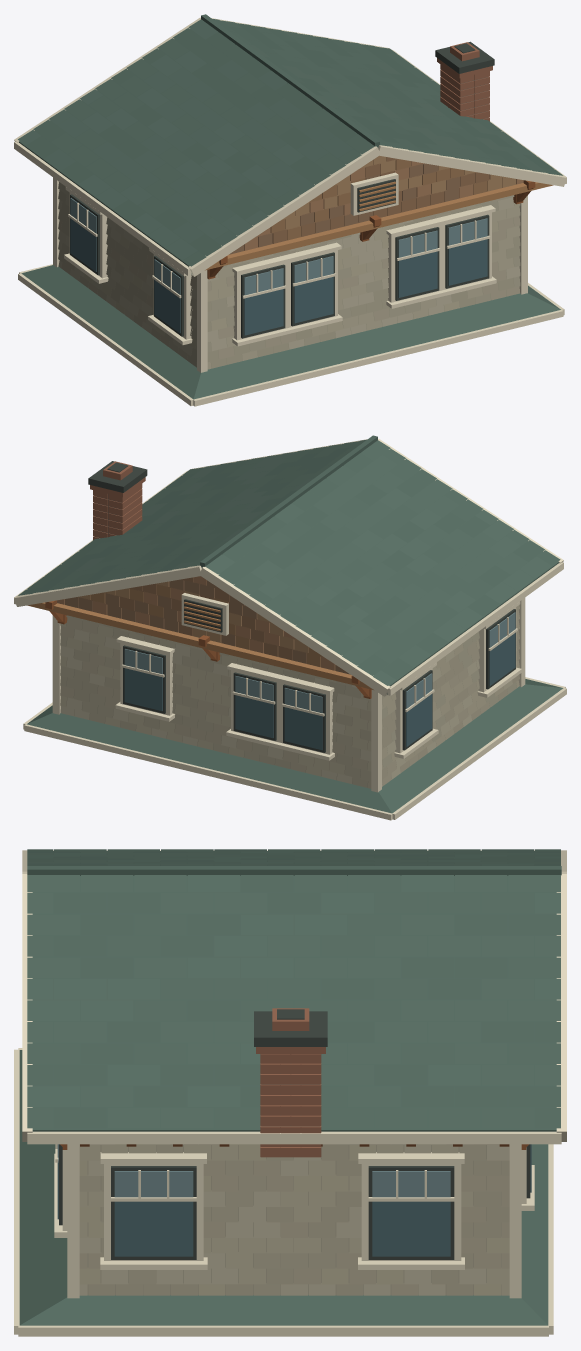
File: craftsman_upper.glb
The picture shows the model from 3 angles, top to bottom: view 1: azimuth 30°, elevation 25°; view 2: azimuth 150°, elevation 25°; view 3: azimuth 270°, elevation 25°; orthographic projection. The views are drawn at different scales.
Visible parts, largest first — view 1: KitCraftsmanUpperRoofFinish, KitCraftsmanUpperDetails, KitCraftsmanUpperSiding; view 2: KitCraftsmanUpperRoofFinish, KitCraftsmanUpperDetails, KitCraftsmanUpperSiding; view 3: KitCraftsmanUpperRoofFinish, KitCraftsmanUpperDetails, KitCraftsmanUpperSiding.
Boxes of the visible parts, x1,y1,x2,y2 form: KitCraftsmanUpperRoofFinish: [18, 14, 562, 399]; KitCraftsmanUpperDetails: [14, 17, 566, 406]; KitCraftsmanUpperSiding: [58, 182, 520, 369]; KitCraftsmanUpperRoofFinish: [18, 435, 563, 813]; KitCraftsmanUpperDetails: [14, 438, 566, 820]; KitCraftsmanUpperSiding: [60, 605, 519, 788]; KitCraftsmanUpperRoofFinish: [19, 849, 561, 1325]; KitCraftsmanUpperDetails: [14, 850, 566, 1336]; KitCraftsmanUpperSiding: [79, 1144, 509, 1295].
Bounding box in the file's own units: 9.06 × 4.91 × 7.43.
